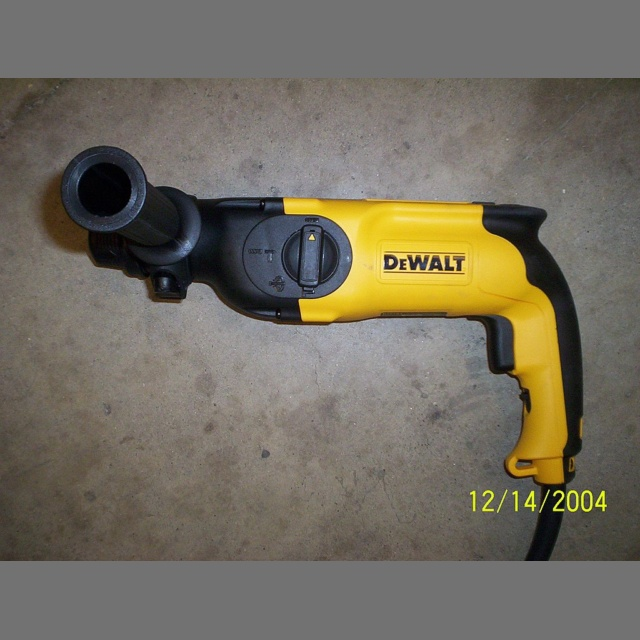drill: (62, 146, 583, 484)
